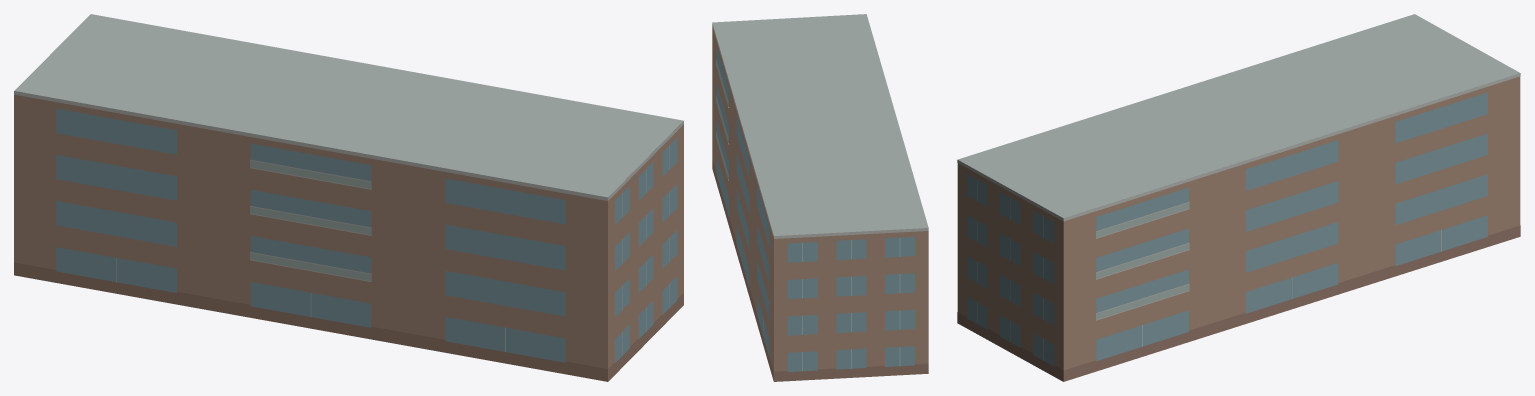
The model's file is survey-upis-32850639.glb.
3 renders of one model, left to right at view 1: azimuth 30°, elevation 25°; view 2: azimuth 150°, elevation 25°; view 3: azimuth 270°, elevation 25°, orthographic. The views are drawn at different scales.
Visible parts, largest first — view 1: survey-upis-32850639.tmp; view 2: survey-upis-32850639.tmp; view 3: survey-upis-32850639.tmp.
Boxes of the visible parts, box(x1,y1,x2,y2) form: survey-upis-32850639.tmp: box(14, 14, 683, 381); survey-upis-32850639.tmp: box(712, 14, 928, 381); survey-upis-32850639.tmp: box(957, 14, 1520, 381).
Size of the model in its own units: 32.66 by 12.2 by 38.04.
